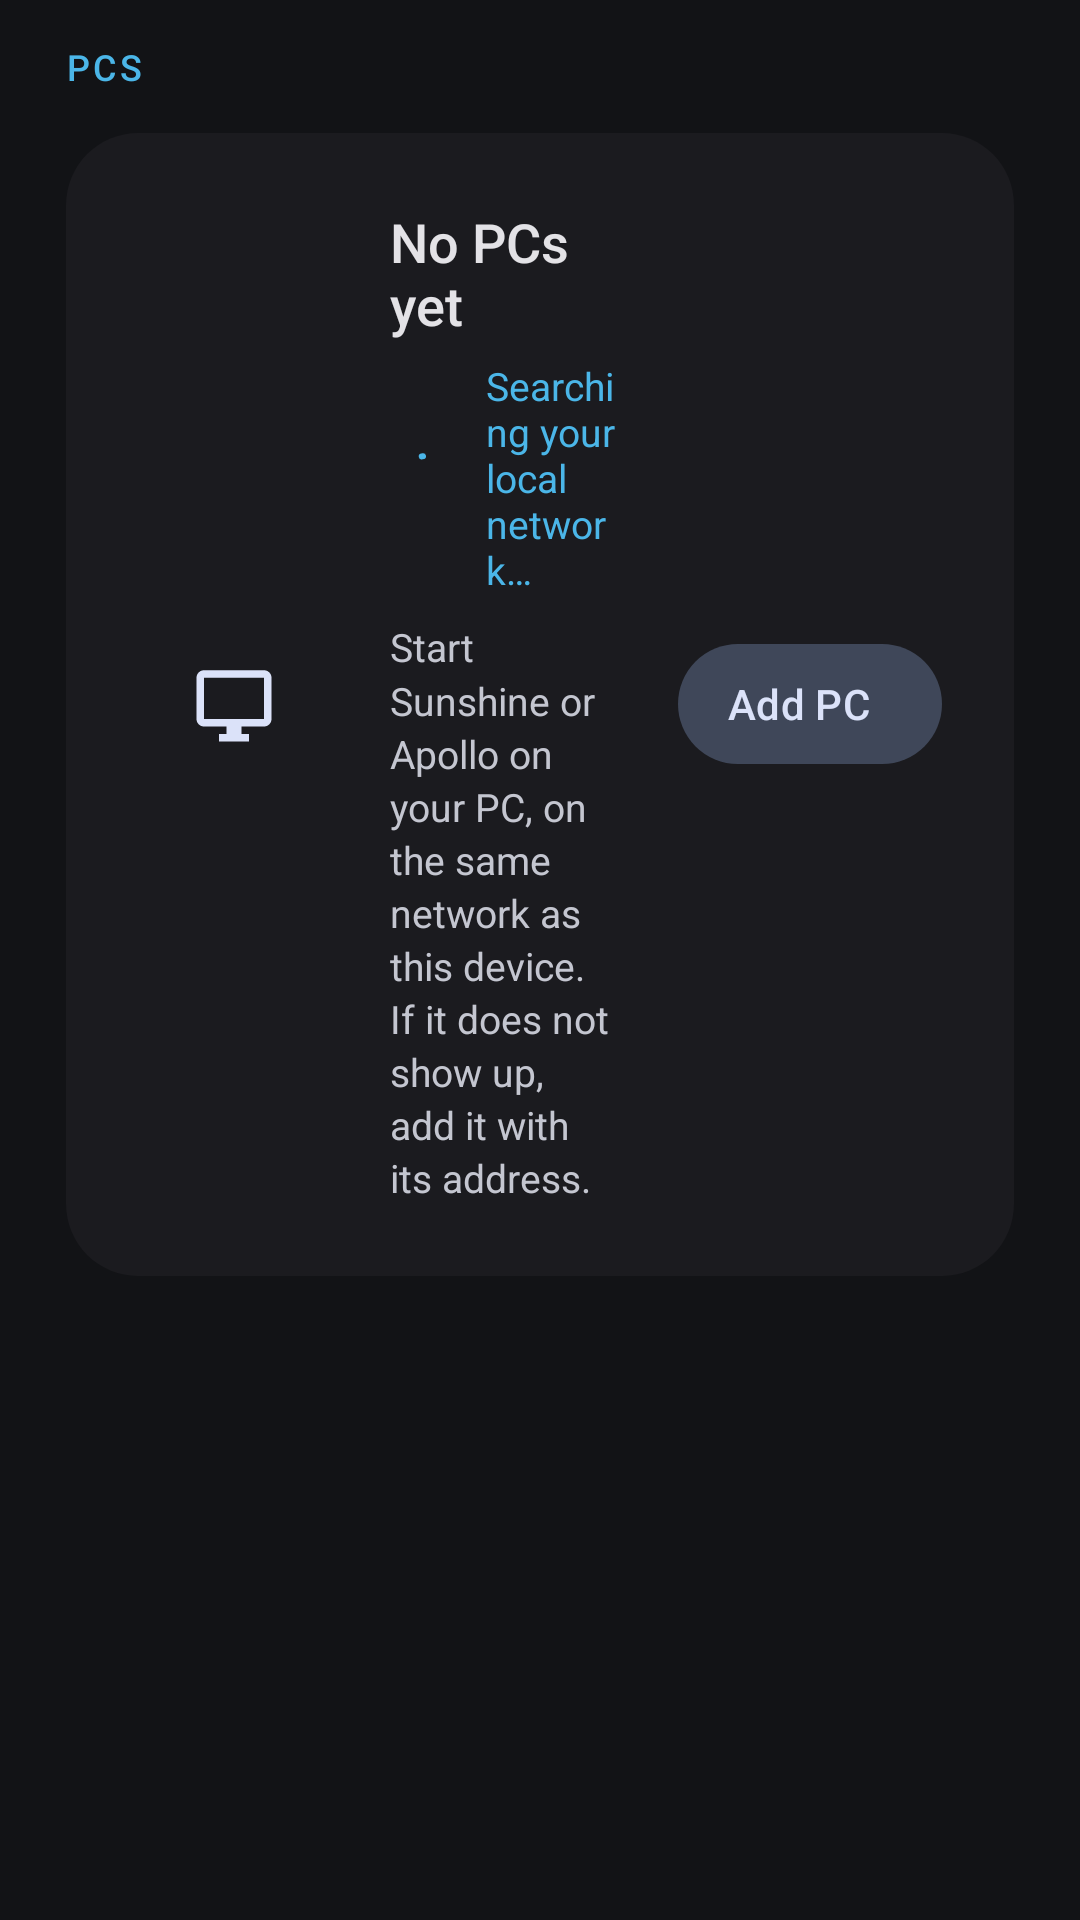

Screen size 1080w x 1920h. Icon name, then its center in pixels as (x,y):
apollo desktop: (234,706)
